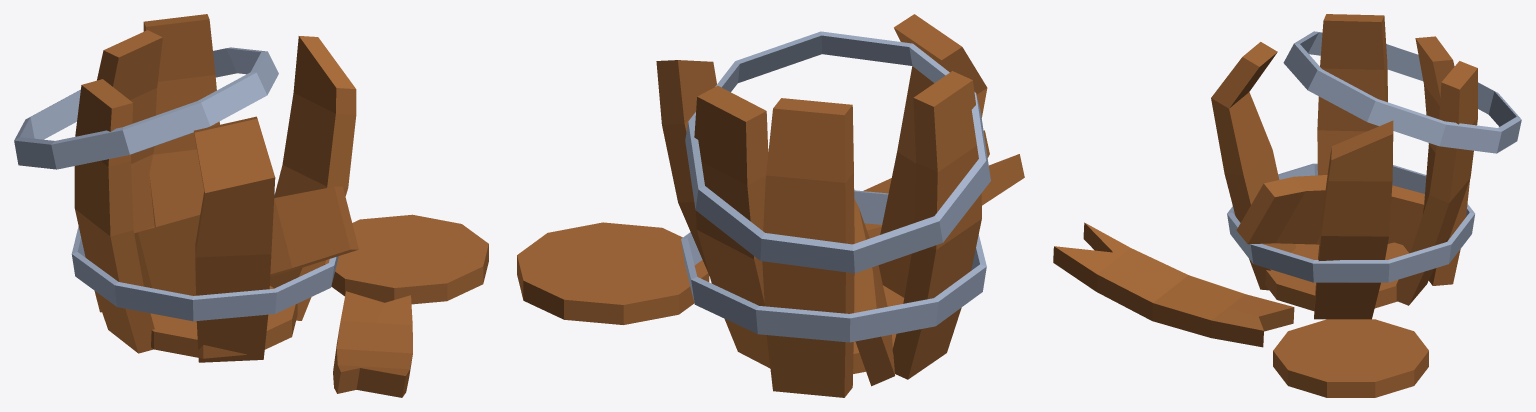
The model's file is barril roto.fbx.
The picture shows the model from 3 angles, left to right: view 1: azimuth 30°, elevation 25°; view 2: azimuth 150°, elevation 25°; view 3: azimuth 270°, elevation 25°; orthographic projection. The views are drawn at different scales.
Visible parts, largest first — view 1: barrel.018, barrel.023, barrel.016, barrel.019, barrel.022, barrel.024, barrel.021, barrel.025, barrel.017, barrel.020, barrel.015; view 2: barrel.020, barrel.016, barrel.023, barrel.019, barrel.021, barrel.017, barrel.018, barrel.022, barrel.024, barrel.025, barrel.015; view 3: barrel.025, barrel.022, barrel.023, barrel.016, barrel.018, barrel.017, barrel.019, barrel.024, barrel.021, barrel.020, barrel.015.
Boxes of the visible parts, box(x1,y1,x2,y2) form: barrel.018: box(194, 116, 275, 362); barrel.023: box(324, 214, 488, 304); barrel.016: box(14, 47, 278, 169); barrel.019: box(74, 79, 154, 353); barrel.022: box(270, 36, 356, 320); barrel.024: box(94, 186, 358, 312); barrel.021: box(143, 14, 219, 227); barrel.025: box(333, 291, 412, 397); barrel.017: box(71, 193, 338, 321); barrel.020: box(97, 30, 162, 233); barrel.015: box(150, 286, 297, 358); barrel.020: box(762, 98, 854, 397); barrel.016: box(685, 31, 990, 273); barrel.023: box(517, 222, 709, 324); barrel.019: box(892, 71, 981, 379); barrel.021: box(694, 86, 770, 368); barrel.017: box(681, 190, 986, 342); barrel.018: box(878, 14, 987, 297); barrel.022: box(656, 60, 716, 275); barrel.024: box(854, 199, 894, 386); barrel.025: box(863, 130, 1024, 238); barrel.015: box(853, 285, 904, 373); barrel.025: box(1053, 222, 1294, 347); barrel.022: box(1314, 120, 1393, 319); barrel.023: box(1273, 319, 1428, 397); barrel.016: box(1283, 31, 1521, 153); barrel.018: box(1211, 42, 1296, 290); barrel.017: box(1227, 163, 1474, 282); barrel.019: box(1317, 14, 1387, 175); barrel.024: box(1236, 175, 1424, 253); barrel.021: box(1396, 61, 1477, 305); barrel.020: box(1415, 36, 1469, 285); barrel.015: box(1265, 242, 1409, 310).
Size of the model in its own units: 250 by 151 by 274.
